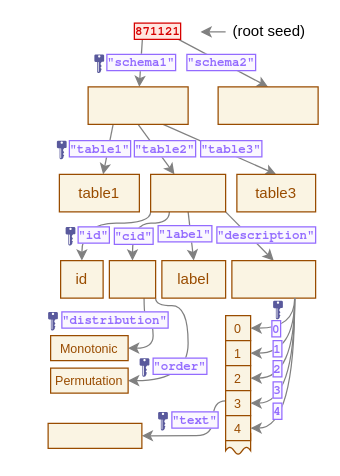
Image size: 340x476. Some labels were removed from this diagram. Each missing label, with the centre of its shape:
"cid" belongs at (132,278).
"description" belongs at (273,278).
"schema1" belongs at (137,105).
"schema2" belongs at (267,105).
"table2" belongs at (187,192).
"TextGenerator" belongs at (94,435).
